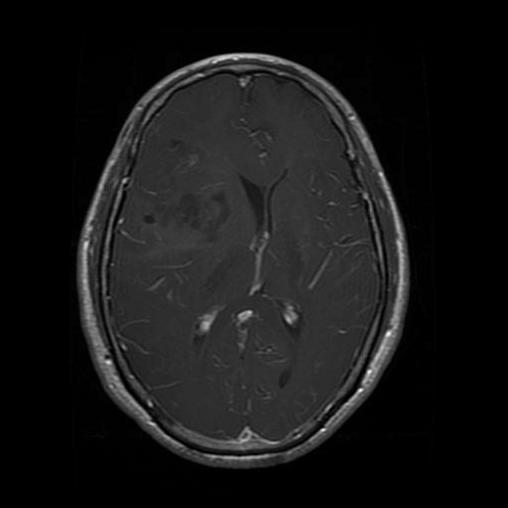Tumour-Glioma: (147, 168, 246, 269)
